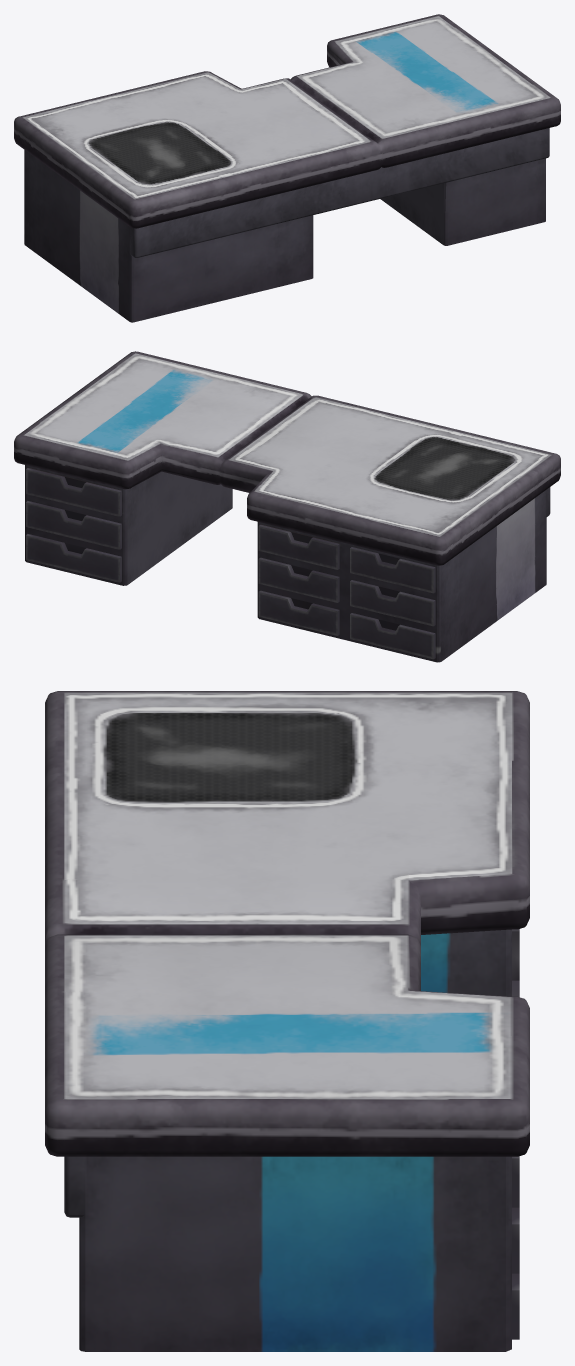
The model's file is workdesk_var1.fbx.
3 renders of one model, top to bottom at view 1: azimuth 30°, elevation 25°; view 2: azimuth 150°, elevation 25°; view 3: azimuth 270°, elevation 25°, orthographic. The views are drawn at different scales.
Parts seen in each view (by area): view 1: WorkDesk1Top, WorkDesk1; view 2: WorkDesk1Top, WorkDesk1, Shelf, Shelf.001, Shelf.002, Shelf.007, Shelf.008, Shelf.006, Shelf.003, Shelf.004, Shelf.005; view 3: WorkDesk1Top, WorkDesk1.
Boxes of the visible parts, x1,y1,x2,y2 form: WorkDesk1Top: [14, 14, 560, 258]; WorkDesk1: [24, 150, 545, 322]; WorkDesk1Top: [14, 351, 560, 565]; WorkDesk1: [25, 465, 546, 662]; Shelf: [26, 468, 121, 516]; Shelf.001: [26, 501, 121, 549]; Shelf.002: [26, 534, 121, 582]; Shelf.007: [350, 580, 435, 626]; Shelf.008: [350, 613, 435, 659]; Shelf.006: [350, 547, 435, 593]; Shelf.003: [258, 524, 339, 569]; Shelf.004: [258, 557, 339, 602]; Shelf.005: [258, 590, 339, 635]; WorkDesk1Top: [45, 691, 529, 1217]; WorkDesk1: [79, 929, 511, 1351].
Bounding box in the file's own units: 4.1 × 2 × 1.15.
1 material, 1 textured.
